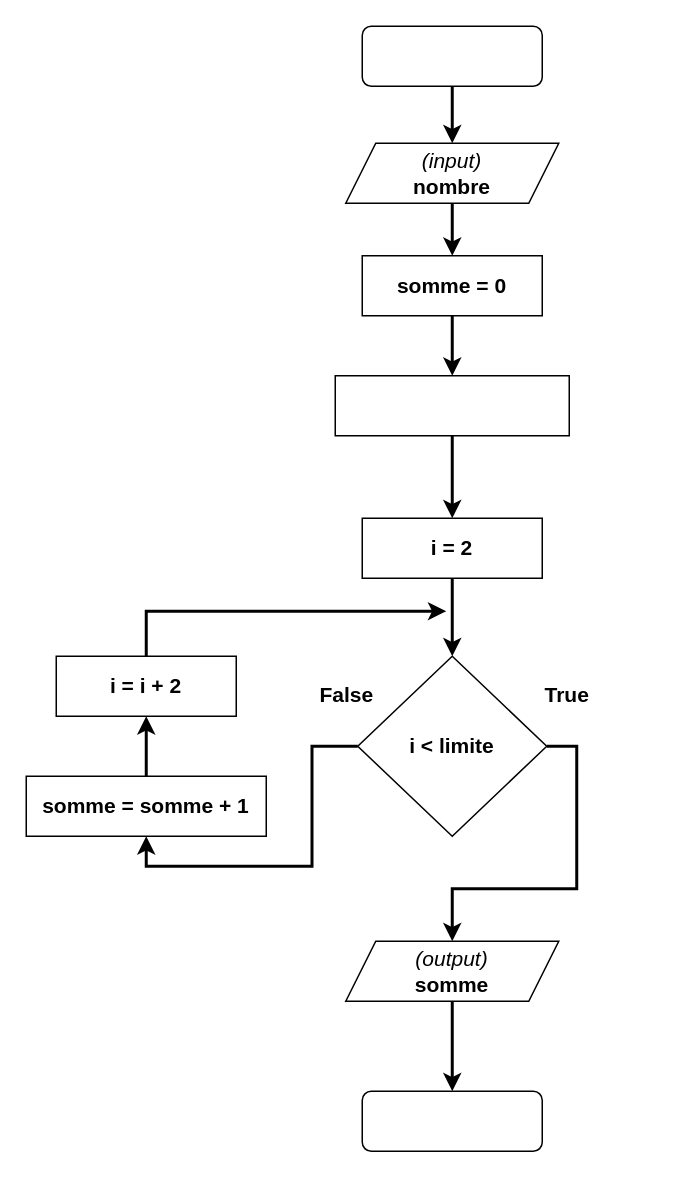
The diagram is 683 pixels wide and 1178 high, and some of its shapes have lost their labels. Here are the shapes that lost their labels. From the top down, the centre of each, then its label:
At (451,55): "DEBUT".
At (451,405): "limite = nombre + 1".
At (451,1120): "FIN".
